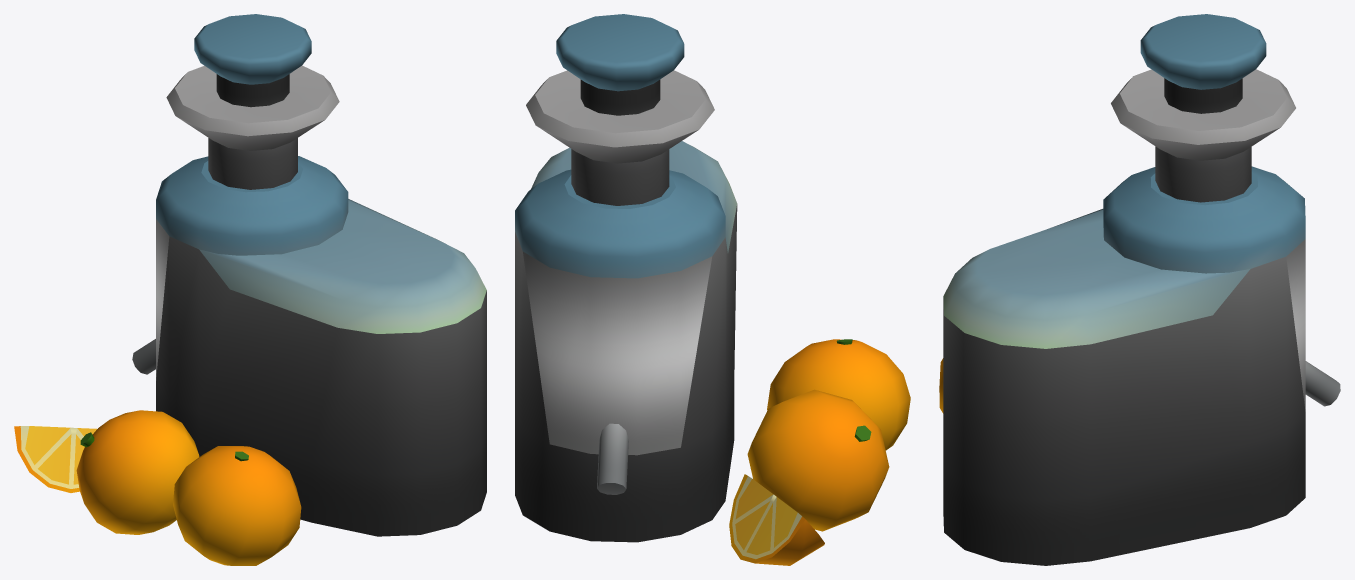
File: Station Juicer.fbx
3 renders of one model, left to right at view 1: azimuth 30°, elevation 25°; view 2: azimuth 150°, elevation 25°; view 3: azimuth 270°, elevation 25°, orthographic. The views are drawn at different scales.
Visible parts, largest first — view 1: Station_Juicer; view 2: Station_Juicer; view 3: Station_Juicer.
Boxes of the visible parts, x1=… form: Station_Juicer: x1=14, y1=14, x2=486, y2=565; Station_Juicer: x1=515, y1=14, x2=910, y2=565; Station_Juicer: x1=939, y1=14, x2=1340, y2=565.
Bounding box in the file's own units: 195 × 226 × 178.
